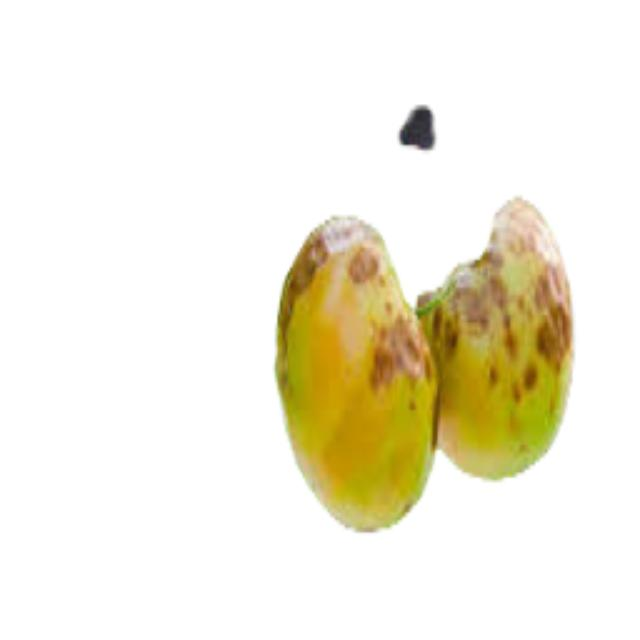defect: (259, 205, 445, 533), (417, 183, 577, 483)
